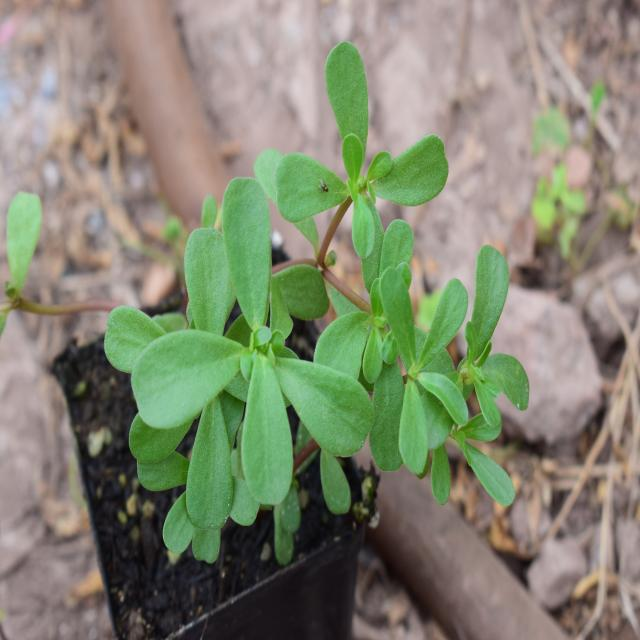purslane: (120, 70, 542, 542)
